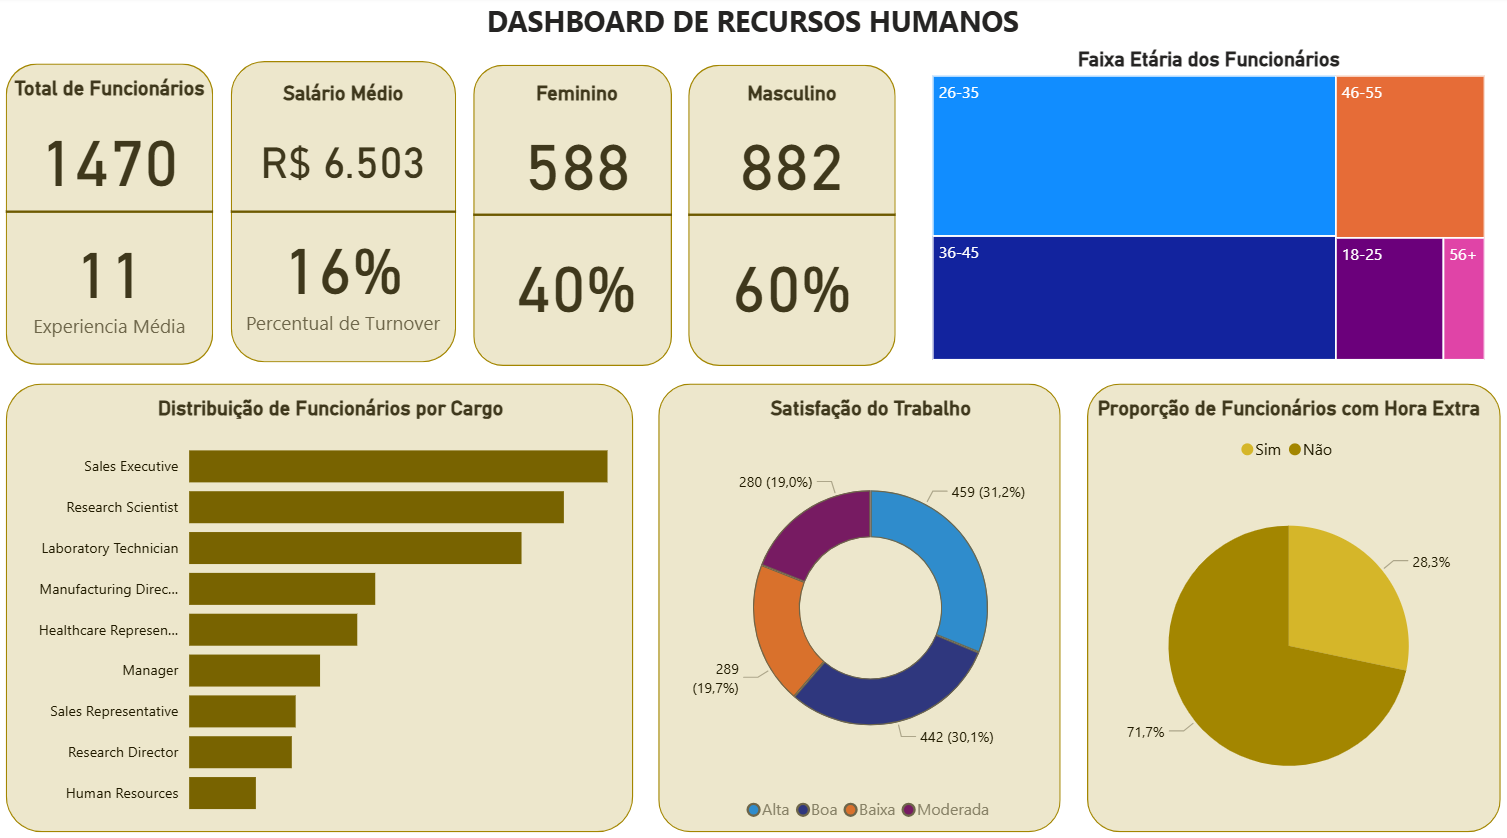

The page's visual inventory and layout, read from the dashboard file:
{"tool":"powerbi","page":{"name":"Página 1","canvas":[1280,720],"ordinal":0},"visuals":[{"type":"card","title":"Total de Funcionários","fields":{"Values":["Medidas.TotalFuncionarios"]},"box":[7.4,67.3,174.5,114.6],"z":0},{"type":"card","fields":{"Values":["Medidas.experienciaMedia"]},"box":[7.4,181.9,174.5,114.6],"z":1000},{"type":"card","title":"Salário Médio","fields":{"Values":["Medidas.salarioMedia"]},"box":[204,71.5,174.5,112.5],"z":2000},{"type":"card","fields":{"Values":["Medidas.porcentagemExFuncionarios"]},"box":[204,179.8,174.5,112.5],"z":3000},{"type":"card","title":"Feminino","fields":{"Values":["Medidas.totalFeminino"]},"box":[400.6,71.5,174.5,112.5],"z":4000},{"type":"card","fields":{"Values":["Medidas.porcentagemFeminino"]},"box":[400.6,184,174.5,112.5],"z":5000},{"type":"card","title":"Masculino","fields":{"Values":["Medidas.totalMasculino"]},"box":[581.4,71.5,174.5,112.5],"z":6000},{"type":"card","fields":{"Values":["Medidas.porcentagemMasculino"]},"box":[581.4,184,174.5,112.5],"z":7000},{"type":"clusteredBarChart","title":"Distribuição de Funcionários por Cargo","fields":{"Y":["Medidas.TotalFuncionarios"],"Category":["DadosRH.JobRole"]},"box":[16.8,336.5,527.8,366.9],"z":8000},{"type":"donutChart","title":"Satisfação do Trabalho","fields":{"Category":["DadosRH.JobSatisfaction"],"Y":["CountNonNull(DadosRH.JobSatisfaction)"]},"box":[575.1,336.5,319.6,366.9],"z":9000},{"type":"pieChart","title":"Proporção de Funcionários com Hora Extra","fields":{"Y":["Medidas.horaExtraSim","Medidas.horaExtraNao"]},"box":[916.8,336.5,339.6,366.9],"z":10000},{"type":"treemap","title":"Faixa Etária dos Funcionários","fields":{"Values":["CountNonNull(DadosRH.faixaEtaria)"],"Group":["DadosRH.faixaEtaria"]},"box":[782.2,43.1,474.2,268.1],"z":11000},{"type":"shape","box":[196.5,54.7,189.5,253.5],"z":12000},{"type":"shape","box":[400.6,57.8,167.2,253.4],"z":13000},{"type":"shape","box":[7.4,56.8,174.5,253.4],"z":14000},{"type":"shape","box":[581.4,57.8,174.5,253.4],"z":15000},{"type":"shape","box":[196.5,54.7,189.5,253.5],"z":16000},{"type":"shape","box":[400.6,57.8,167.2,252.3],"z":17000},{"type":"shape","box":[581.4,57.8,174.5,252.3],"z":18000},{"type":"shape","box":[556.2,325.9,338.6,377.5],"z":19000},{"type":"shape","box":[7.4,325.9,527.8,377.5],"z":20000},{"type":"shape","box":[916.8,325.9,348,377.5],"z":21000},{"type":"shape","box":[7,54.7,174.4,253.5],"z":22000},{"type":"textbox","box":[406.9,0,467.9,42.1],"z":23000}]}

Visuals, with their boxes in screenshot pixels (x1, y1, x2, y2), scaled from the page's 1280x720 canvas onto the 1507x838 screenshot:
"Total de Funcionários" card: bbox=[9, 78, 214, 212]
card - Medidas.experienciaMedia: bbox=[9, 212, 214, 345]
"Salário Médio" card: bbox=[240, 83, 446, 214]
card - Medidas.porcentagemExFuncionarios: bbox=[240, 209, 446, 340]
"Feminino" card: bbox=[472, 83, 677, 214]
card - Medidas.porcentagemFeminino: bbox=[472, 214, 677, 345]
"Masculino" card: bbox=[685, 83, 890, 214]
card - Medidas.porcentagemMasculino: bbox=[685, 214, 890, 345]
"Distribuição de Funcionários por Cargo" clusteredBarChart: bbox=[20, 392, 641, 819]
"Satisfação do Trabalho" donutChart: bbox=[677, 392, 1053, 819]
"Proporção de Funcionários com Hora Extra" pieChart: bbox=[1079, 392, 1479, 819]
"Faixa Etária dos Funcionários" treemap: bbox=[921, 50, 1479, 362]
shape: bbox=[231, 64, 454, 359]
shape: bbox=[472, 67, 668, 362]
shape: bbox=[9, 66, 214, 361]
shape: bbox=[685, 67, 890, 362]
shape: bbox=[231, 64, 454, 359]
shape: bbox=[472, 67, 668, 361]
shape: bbox=[685, 67, 890, 361]
shape: bbox=[655, 379, 1053, 819]
shape: bbox=[9, 379, 630, 819]
shape: bbox=[1079, 379, 1489, 819]
shape: bbox=[8, 64, 214, 359]
textbox: bbox=[479, 0, 1030, 49]
